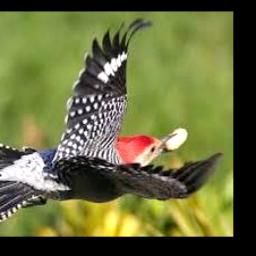Woodpecker: (0, 18, 223, 222)
